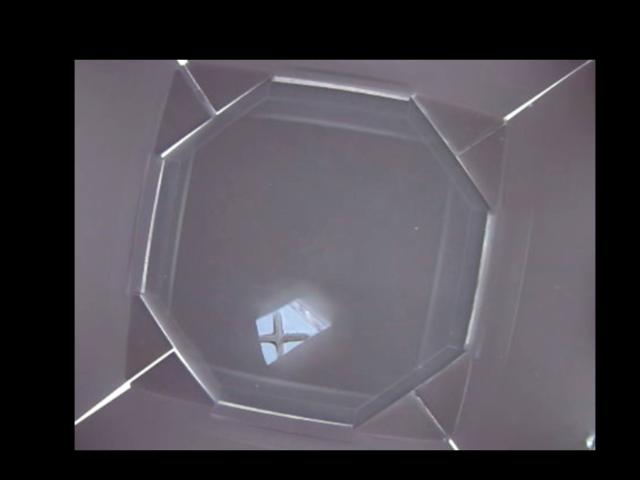China: (254, 298, 329, 364)
